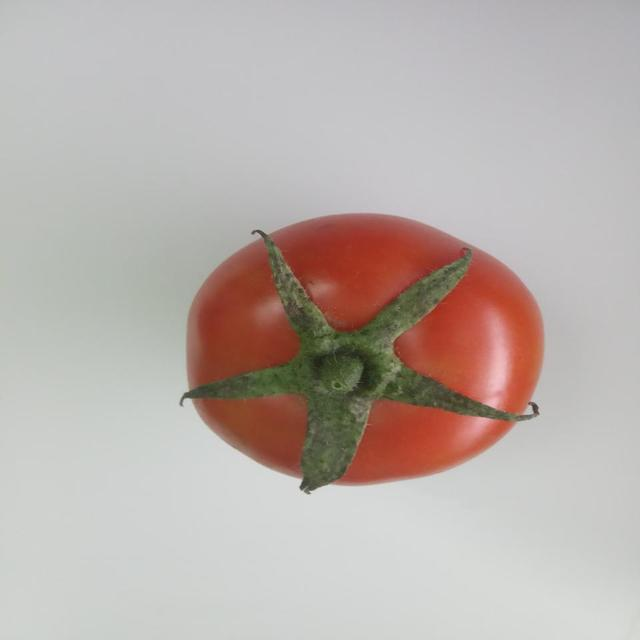Healthy Fruit: (117, 140, 363, 334)
